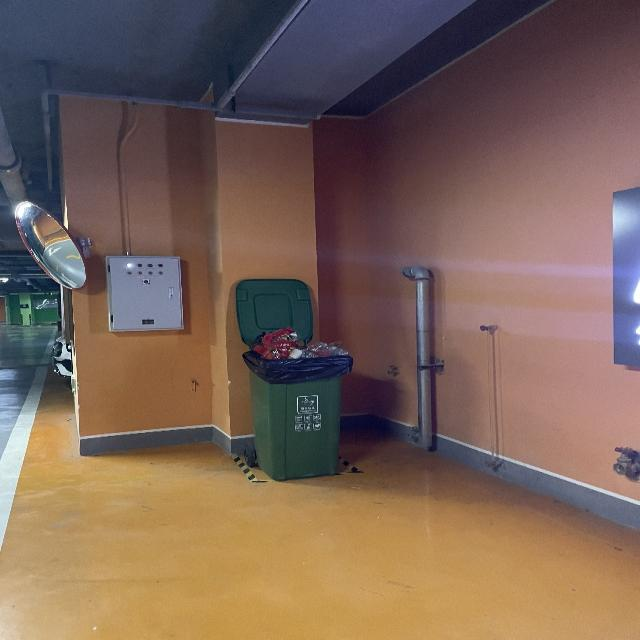overflow: (241, 325, 351, 481)
